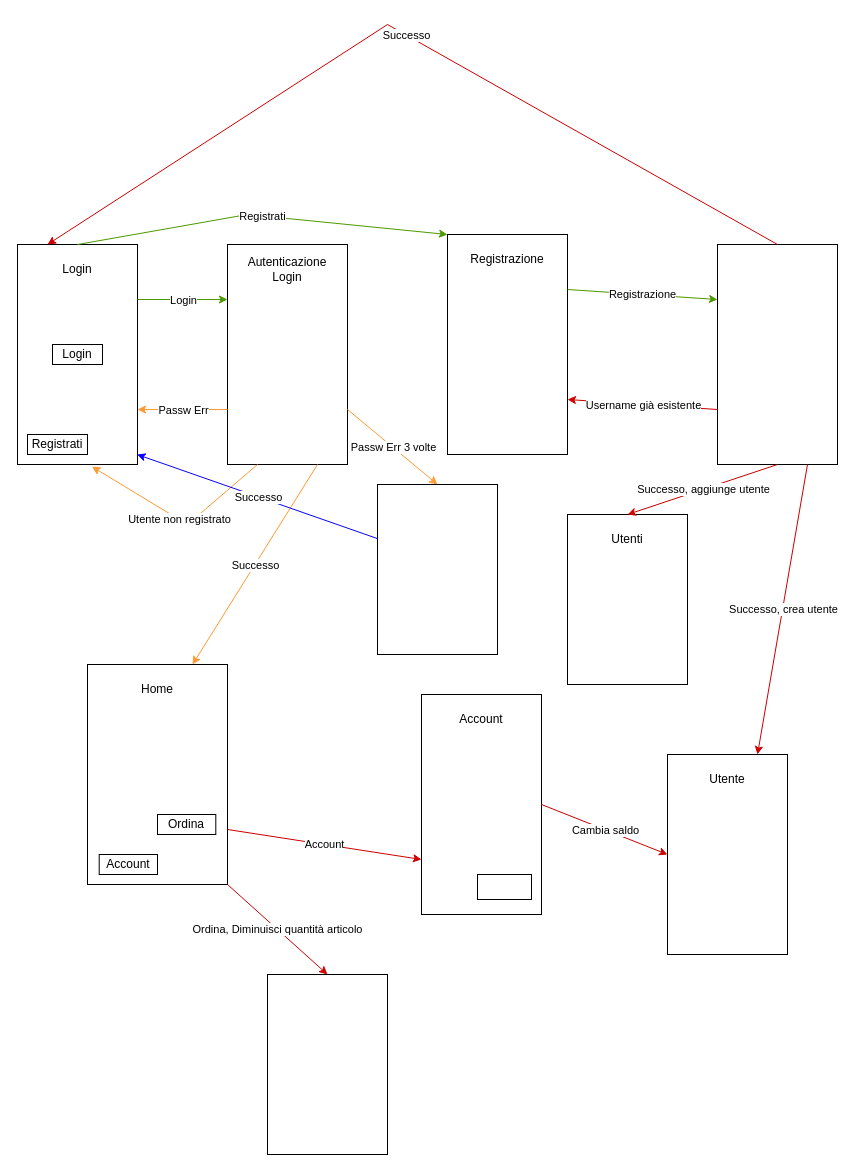
This 855x1172 diagram has some shape labels left out. Here are the shapes that lost their labels. From the top down, the box of each, then its label:
(716, 244, 838, 464): Autenticazione Registrazione
(376, 484, 498, 654): Cambia Password
(476, 874, 532, 900): Saldo
(266, 974, 388, 1154): Magazzino
